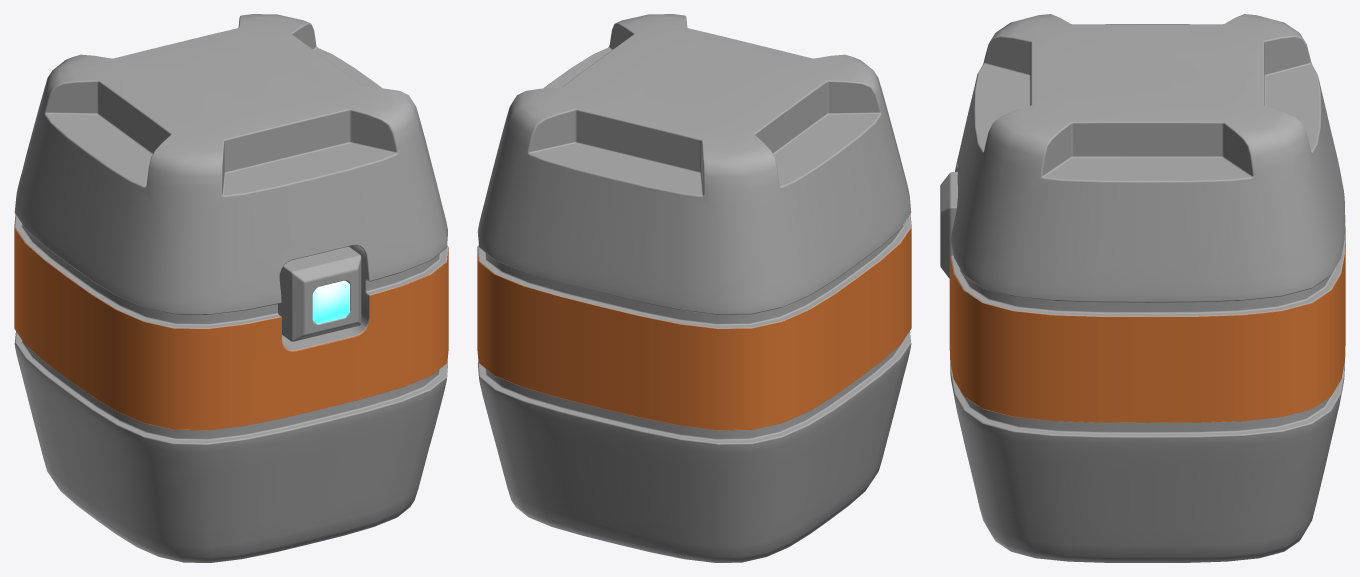
The model's file is sci-fi-crate.glb.
3 views of the same model, side by side, from view 1: azimuth 30°, elevation 25°; view 2: azimuth 150°, elevation 25°; view 3: azimuth 270°, elevation 25° (orthographic). The views are drawn at different scales.
Visible parts, largest first — view 1: crate.003; view 2: crate.003; view 3: crate.003.
Boxes of the visible parts, box(x1,y1,x2,y2) form: crate.003: box(14, 14, 448, 562); crate.003: box(477, 14, 911, 562); crate.003: box(940, 14, 1345, 562).
Size of the model in its own units: 1.3 by 1.55 by 1.33.
